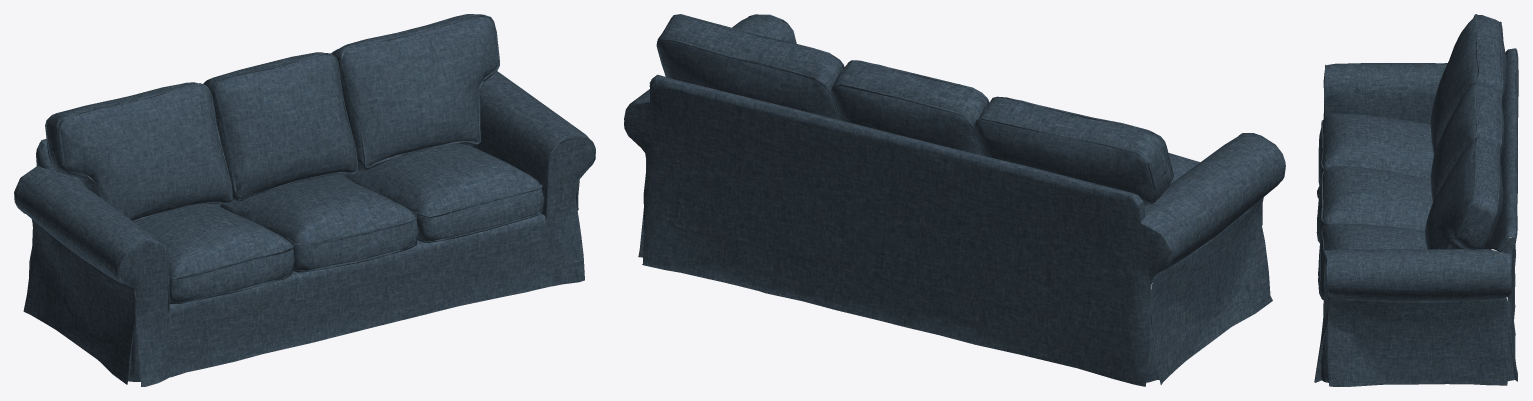
The model's file is uppland_sofa_kilanda_dark_blue.glb.
3 renders of one model, left to right at view 1: azimuth 30°, elevation 25°; view 2: azimuth 150°, elevation 25°; view 3: azimuth 270°, elevation 25°, orthographic. The views are drawn at different scales.
Parts seen in each view (by area): view 1: Mesh_0; view 2: Mesh_0; view 3: Mesh_0.
Boxes of the visible parts, x1,y1,x2,y2 form: Mesh_0: (14, 14, 595, 386); Mesh_0: (624, 14, 1285, 386); Mesh_0: (1314, 14, 1518, 386).
Bounding box in the file's own units: 2.24 × 0.9201 × 0.9201.
1 material, 1 textured.
